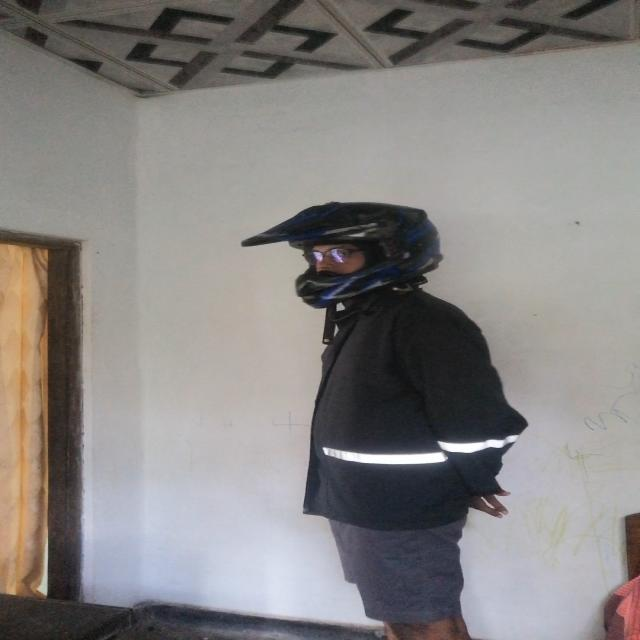Helmet_Wearer: (238, 191, 446, 304)
Jacket_Wearer: (284, 268, 524, 529)
Person: (258, 194, 517, 640)
